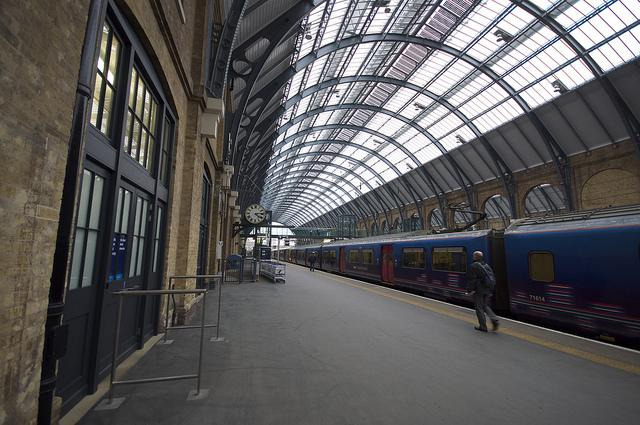Train: (269, 213, 640, 355)
